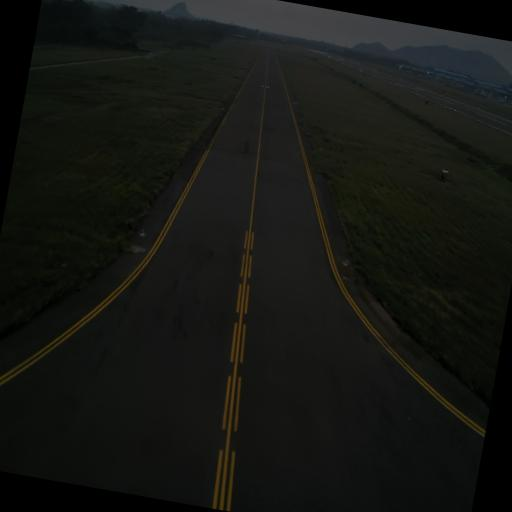on: (344, 256, 348, 265), (140, 226, 144, 235)
